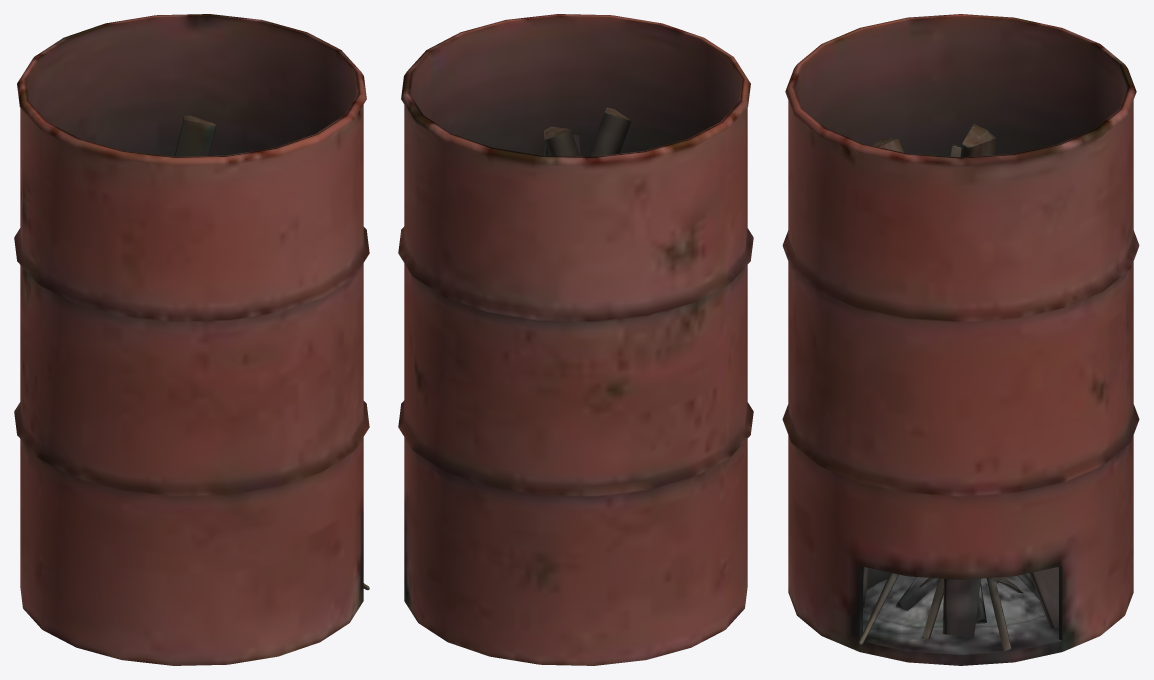
The model's file is SM_HeaterMedieval_ad0833.glb.
The picture shows the model from 3 angles, left to right: view 1: azimuth 30°, elevation 25°; view 2: azimuth 150°, elevation 25°; view 3: azimuth 270°, elevation 25°; orthographic projection.
Bounding box in the file's own units: 0.6781 × 1.06 × 0.6781.
1 material, 1 textured.
